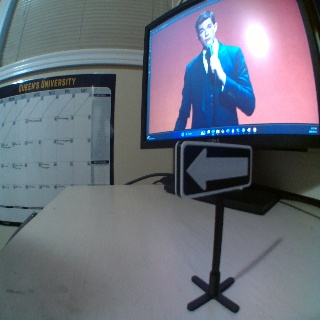sign_oneway_left: (174, 141, 252, 195)
